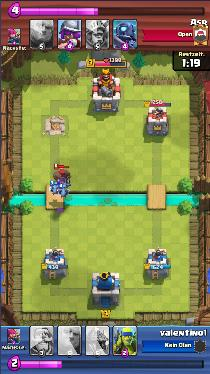enemy_hunter: (51, 170, 71, 187)
enemy_minion: (58, 187, 69, 197), (49, 185, 59, 194)
